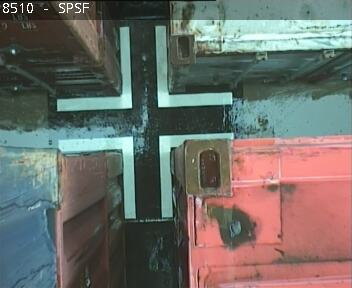groundmarker_1: (57, 24, 234, 112), (57, 132, 233, 220)
